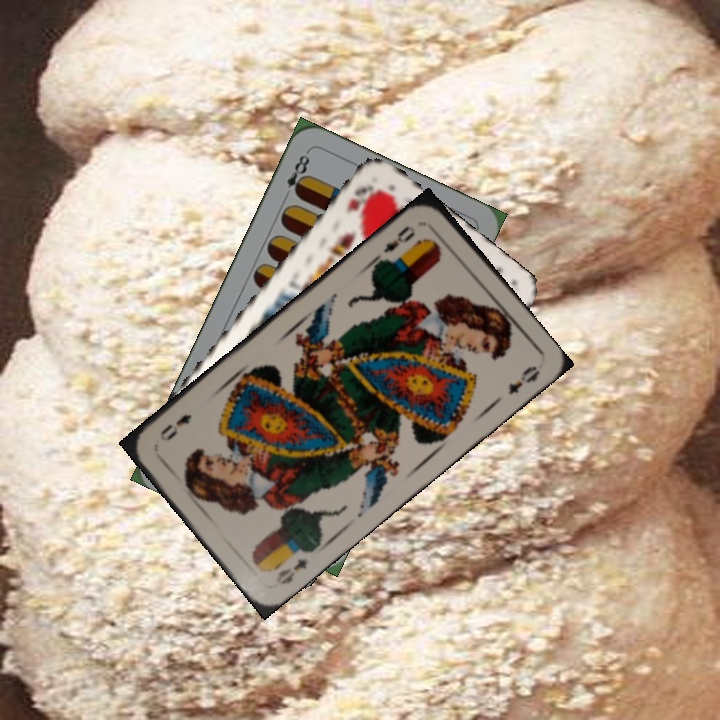E8: (279, 148, 313, 202)
EO: (379, 221, 418, 256), (272, 554, 310, 588)
HK: (342, 181, 377, 217)
